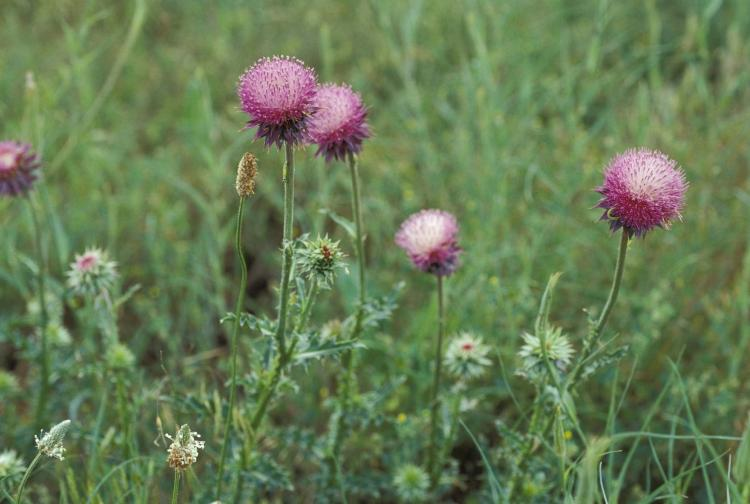thistle: (586, 145, 697, 237), (228, 52, 312, 150), (305, 78, 372, 168), (392, 208, 460, 276), (3, 139, 47, 203), (66, 248, 117, 298)
